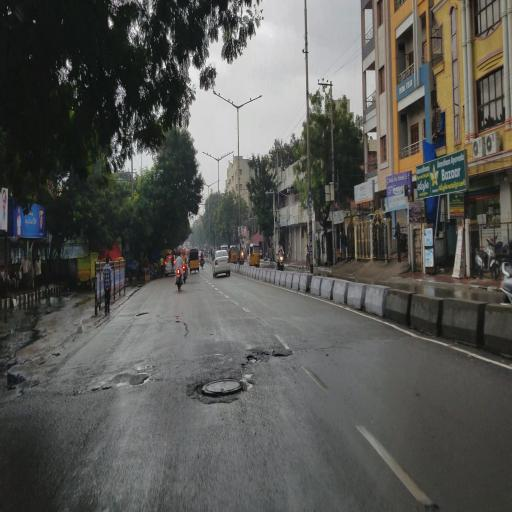street_light_0: (234, 91, 267, 117), (203, 85, 236, 111), (216, 144, 237, 162), (195, 147, 216, 165)
